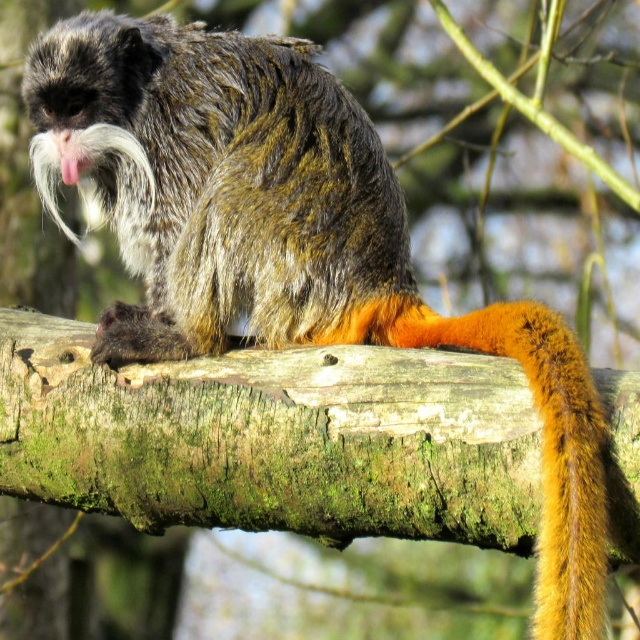Monkey: (26, 12, 614, 640)
